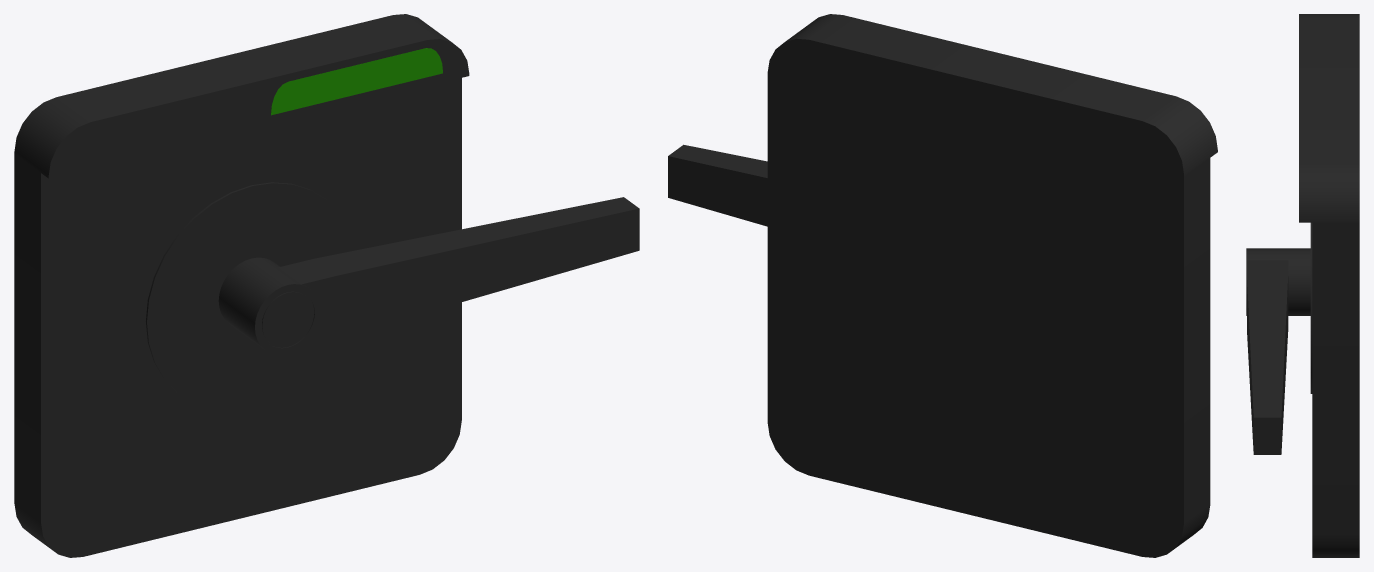
File: Handle.fbx
The picture shows the model from 3 angles, left to right: view 1: azimuth 30°, elevation 25°; view 2: azimuth 150°, elevation 25°; view 3: azimuth 270°, elevation 25°; orthographic projection. The views are drawn at different scales.
Parts seen in each view (by area): view 1: Cylinder.006, Plane.001; view 2: Cylinder.006, Plane.001; view 3: Cylinder.006, Plane.001.
Boxes of the visible parts, box(x1,y1,x2,y2) form: Cylinder.006: box(14, 14, 469, 557); Plane.001: box(218, 197, 639, 354); Cylinder.006: box(767, 14, 1217, 557); Plane.001: box(668, 144, 767, 226); Cylinder.006: box(1299, 14, 1359, 557); Plane.001: box(1246, 248, 1310, 454).
Bounding box in the file's own units: 7.4 × 5.51 × 1.45.
